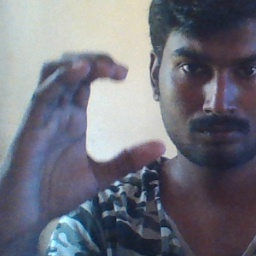C: (29, 48, 169, 180)
